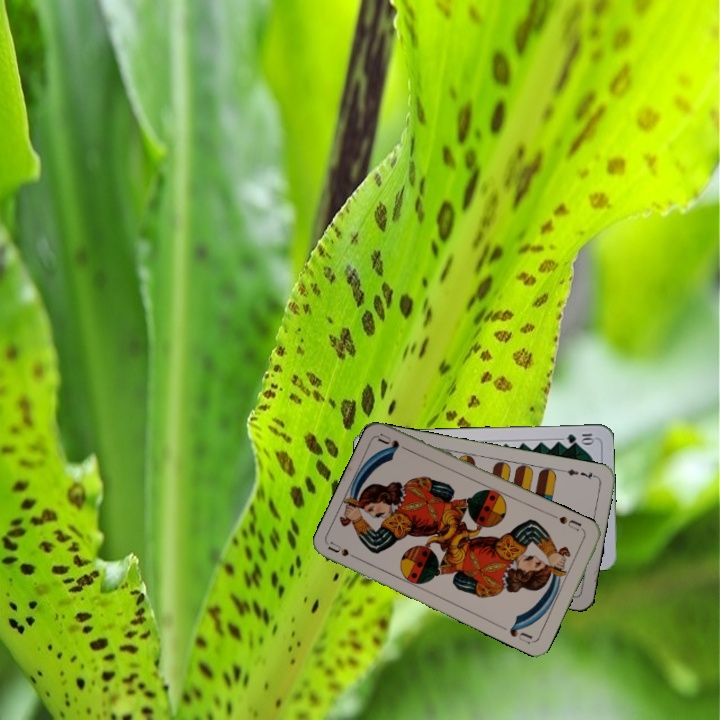E7: (559, 465, 599, 482)
G10: (562, 429, 597, 446)
SU: (325, 538, 364, 564), (549, 511, 587, 534)
